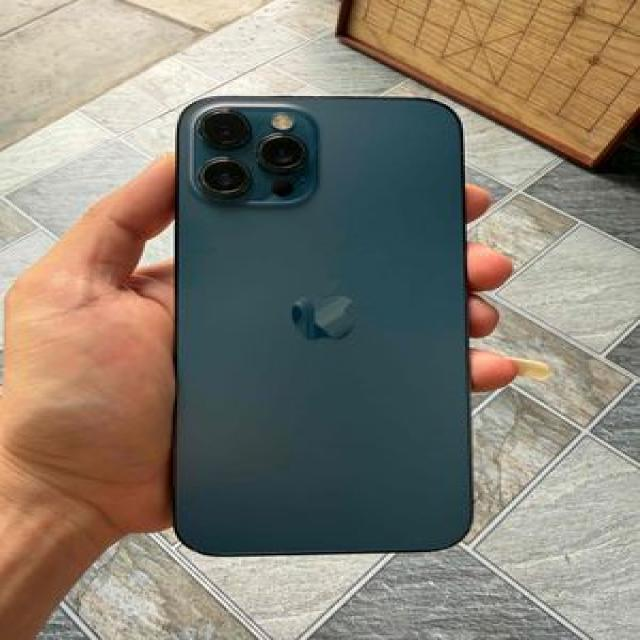gen_12_13: (160, 83, 492, 564)
